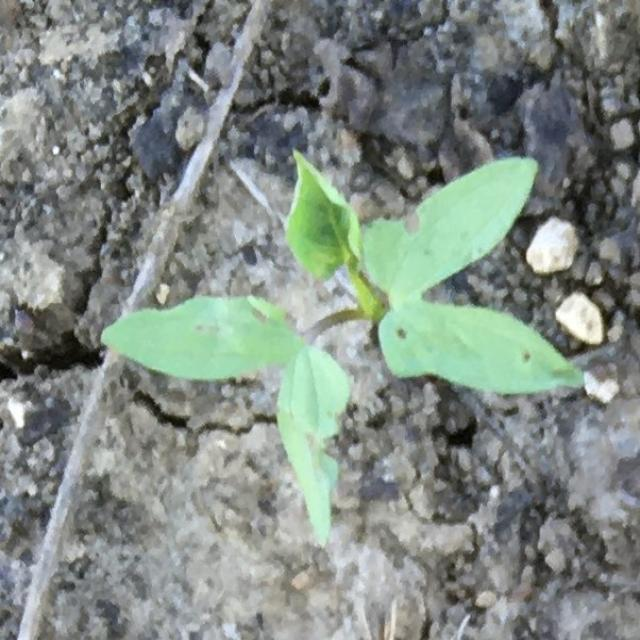MorningGlory: (101, 150, 585, 544)
